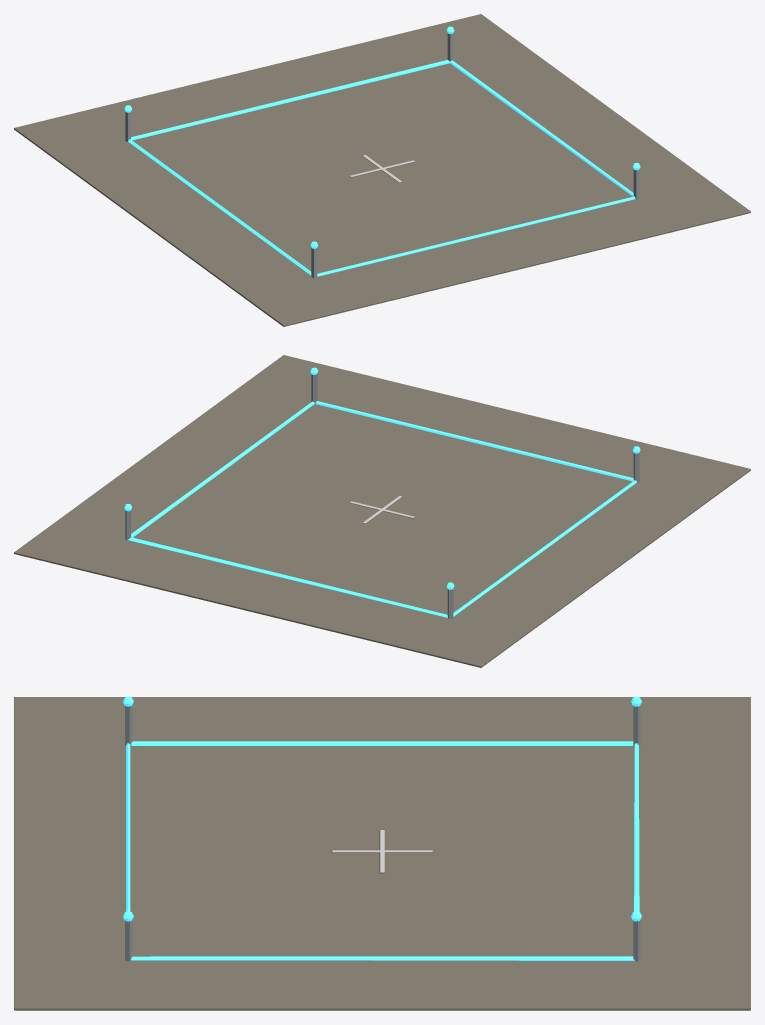
The model's file is prp_plot_marker.glb.
The picture shows the model from 3 angles, top to bottom: view 1: azimuth 30°, elevation 25°; view 2: azimuth 150°, elevation 25°; view 3: azimuth 270°, elevation 25°; orthographic projection. The views are drawn at different scales.
Visible parts, largest first — view 1: prp_plot_marker; view 2: prp_plot_marker; view 3: prp_plot_marker.
Boxes of the visible parts, x1,y1,x2,y2 form: prp_plot_marker: (14, 14, 750, 326); prp_plot_marker: (14, 355, 750, 667); prp_plot_marker: (14, 696, 750, 1010).
Bounding box in the file's own units: 16 × 1.22 × 16.
